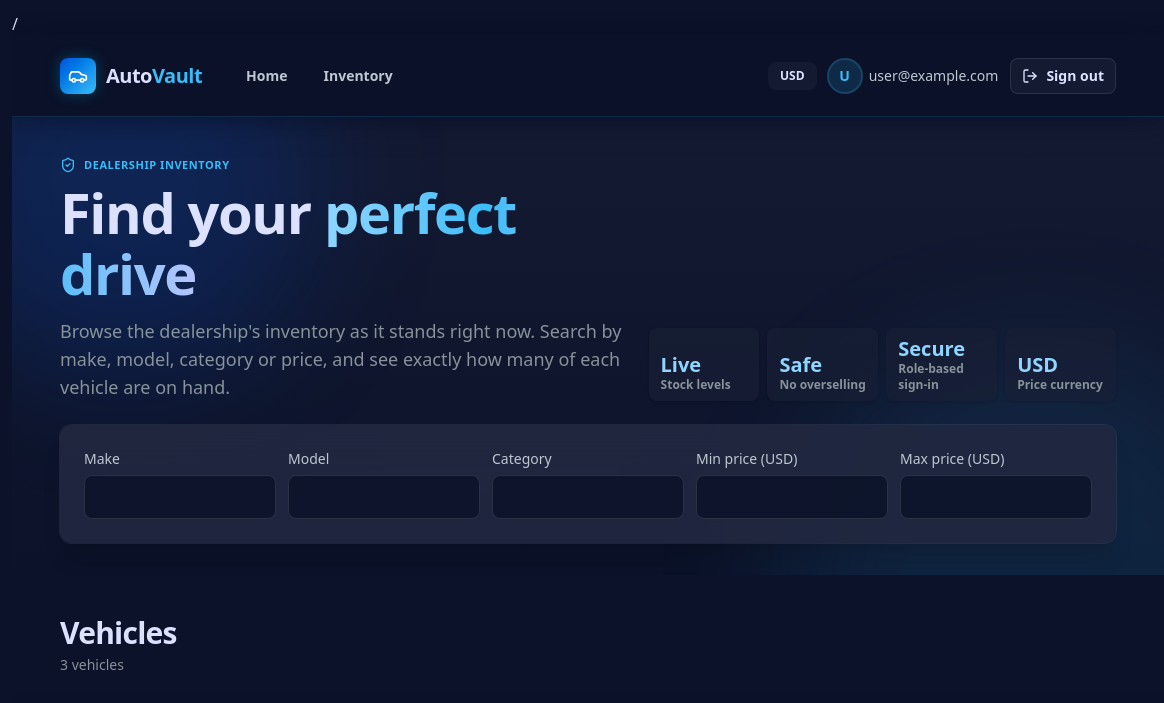
Scenario: searching the vehicles › prices › says so when the maximum is below the minimum, and still applies the text filters
Type "toy" into the field labelled "Make" at [180, 497], box [84, 475, 276, 519]
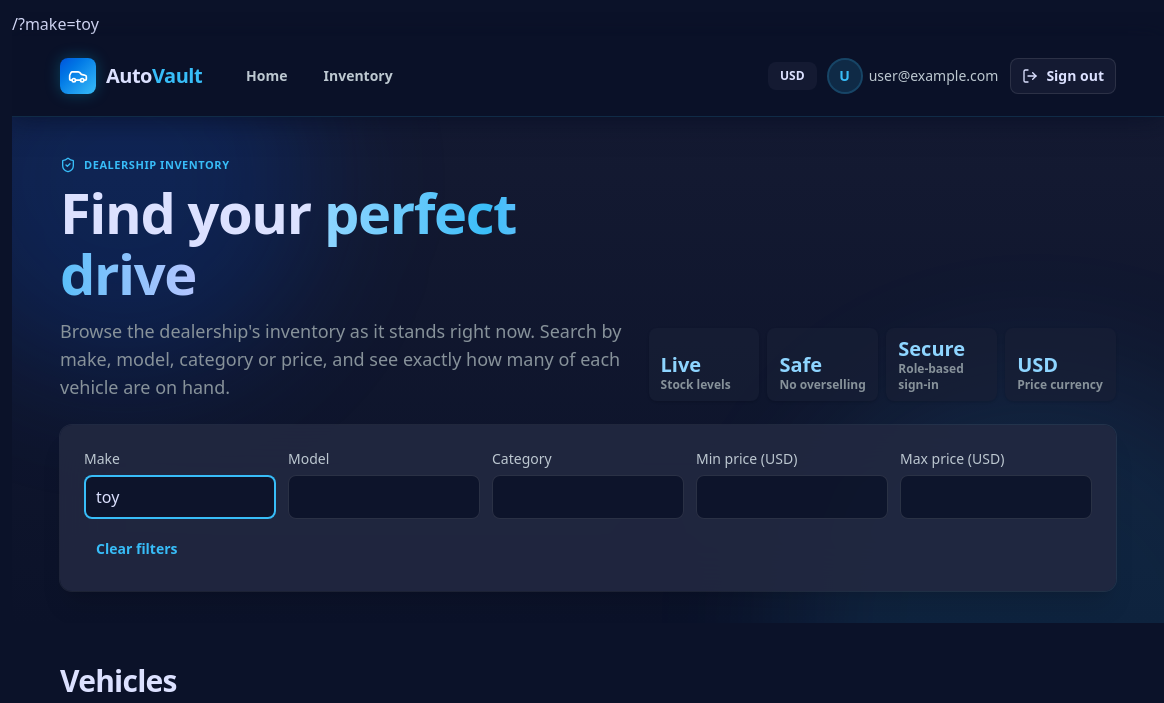
Type "30000" into the field labelled "Min price (USD)" at [792, 497], box [696, 475, 888, 519]
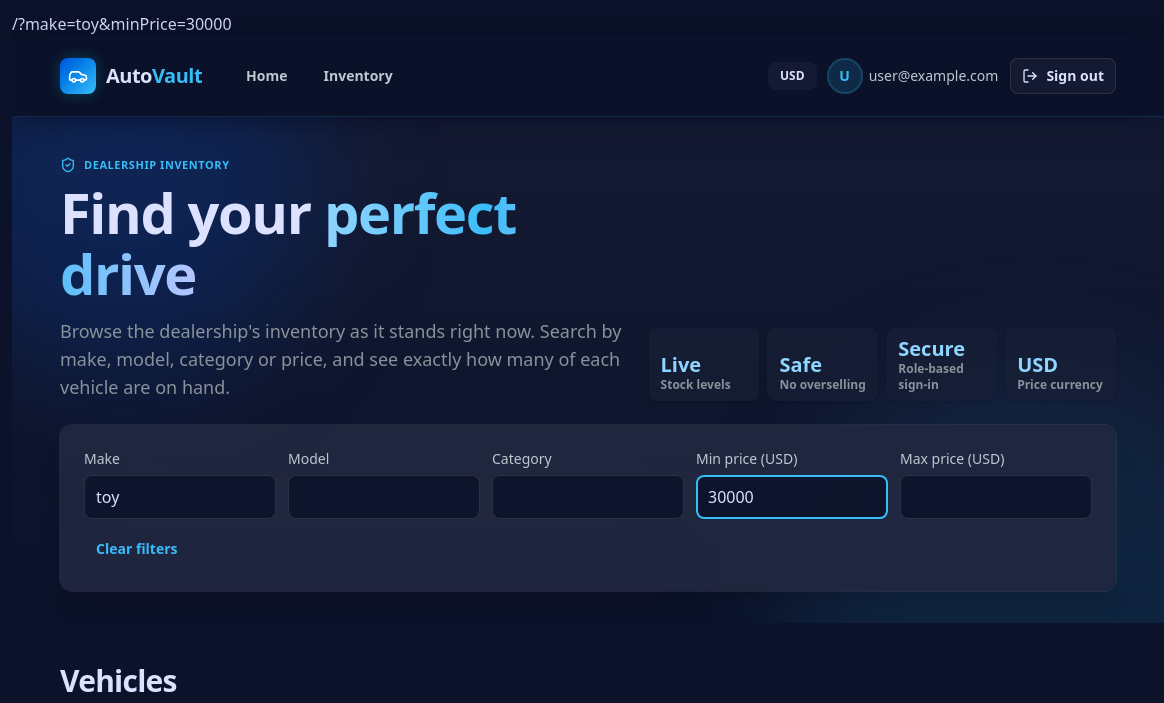
Type "20000" into the field labelled "Max price (USD)" at [996, 497], box [900, 475, 1092, 519]
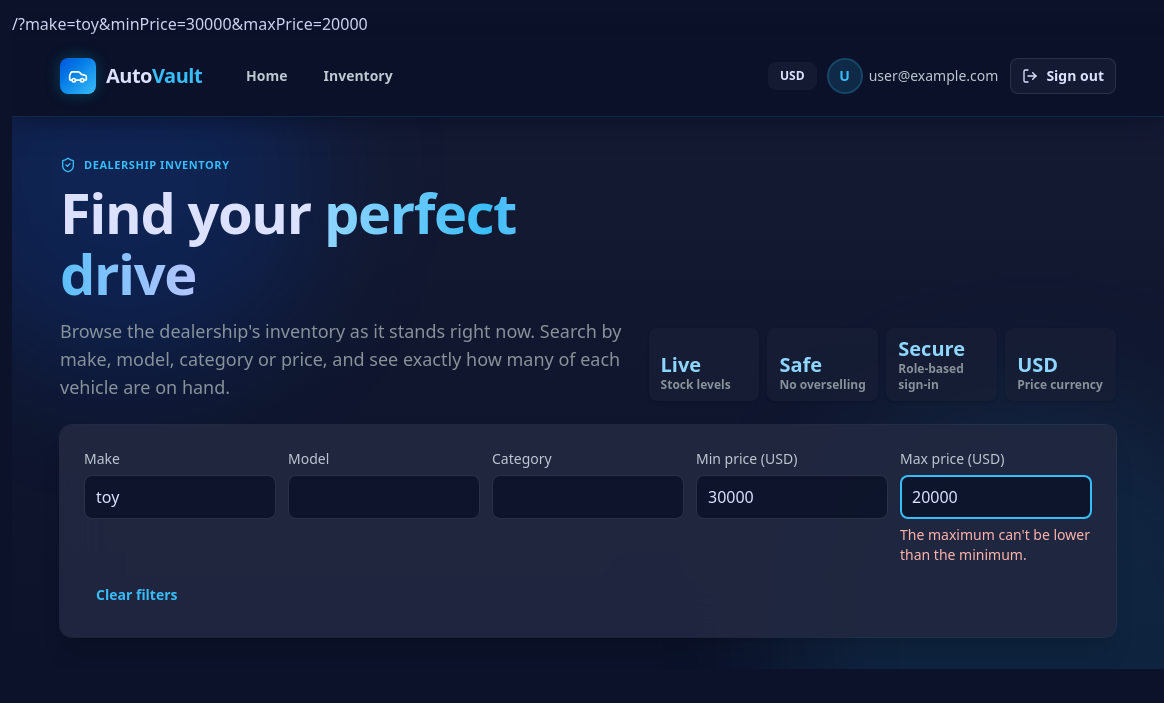
Now the text "The maximum can't be lower than the minimum." is shown, box [900, 525, 1092, 565]
